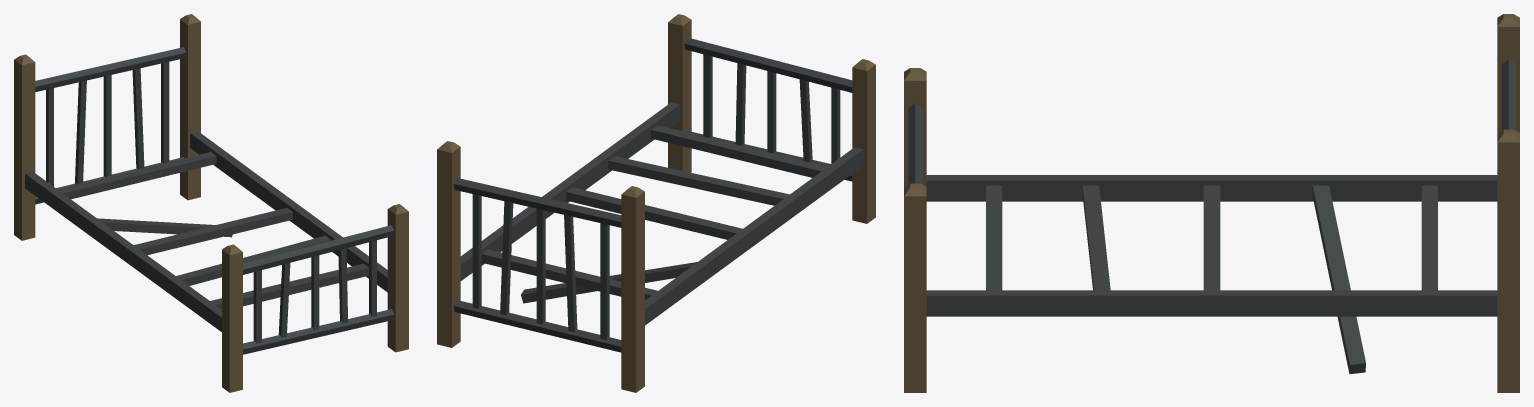
The model's file is SM_Prop_Bed_Frame_01.fbx.
The picture shows the model from 3 angles, left to right: view 1: azimuth 30°, elevation 25°; view 2: azimuth 150°, elevation 25°; view 3: azimuth 270°, elevation 25°; orthographic projection. The views are drawn at different scales.
Visible parts, largest first — view 1: SM_Prop_Bed_Frame_01; view 2: SM_Prop_Bed_Frame_01; view 3: SM_Prop_Bed_Frame_01.
Part boxes in pixels (left/top/right/bottom): SM_Prop_Bed_Frame_01: left=14, top=14, right=408, bottom=392; SM_Prop_Bed_Frame_01: left=437, top=14, right=875, bottom=392; SM_Prop_Bed_Frame_01: left=904, top=14, right=1519, bottom=392.
Bounding box in the file's own units: 94.46 × 90.6 × 197.
